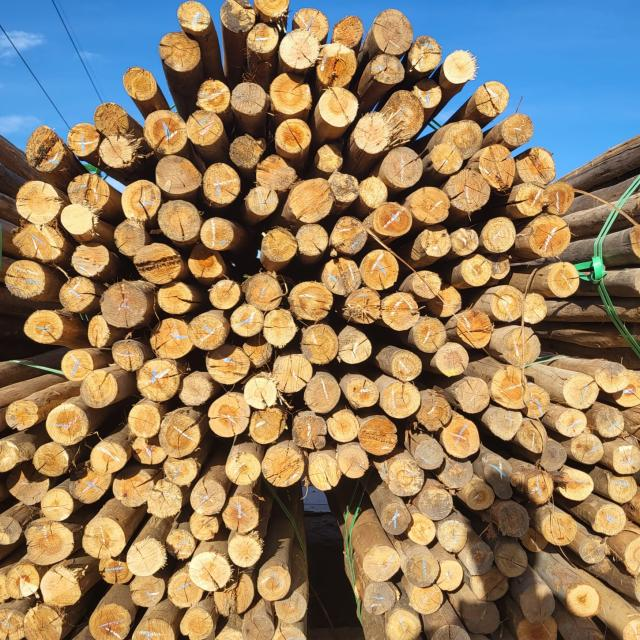package: (4, 0, 582, 491), (0, 390, 312, 640), (364, 364, 640, 640)
